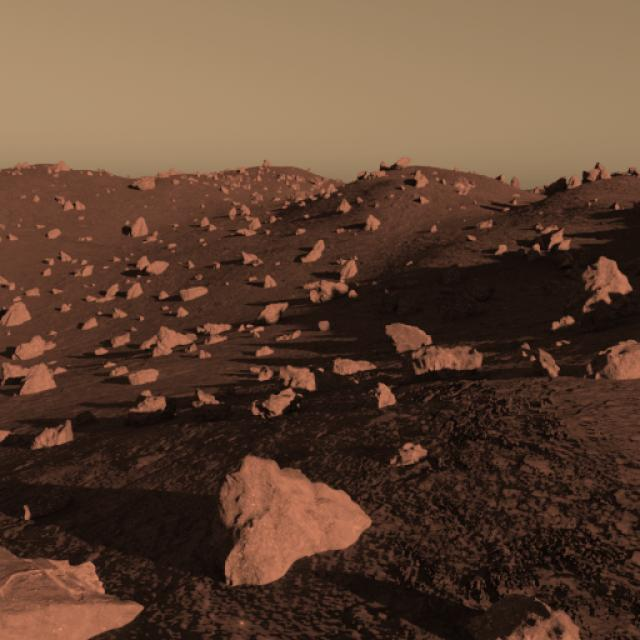rock: (207, 448, 368, 584), (0, 539, 136, 640), (568, 250, 638, 310), (485, 599, 587, 640), (414, 341, 485, 377), (138, 320, 202, 359), (589, 338, 640, 382), (247, 387, 306, 418), (388, 318, 434, 356), (15, 361, 63, 396), (0, 296, 35, 327)
